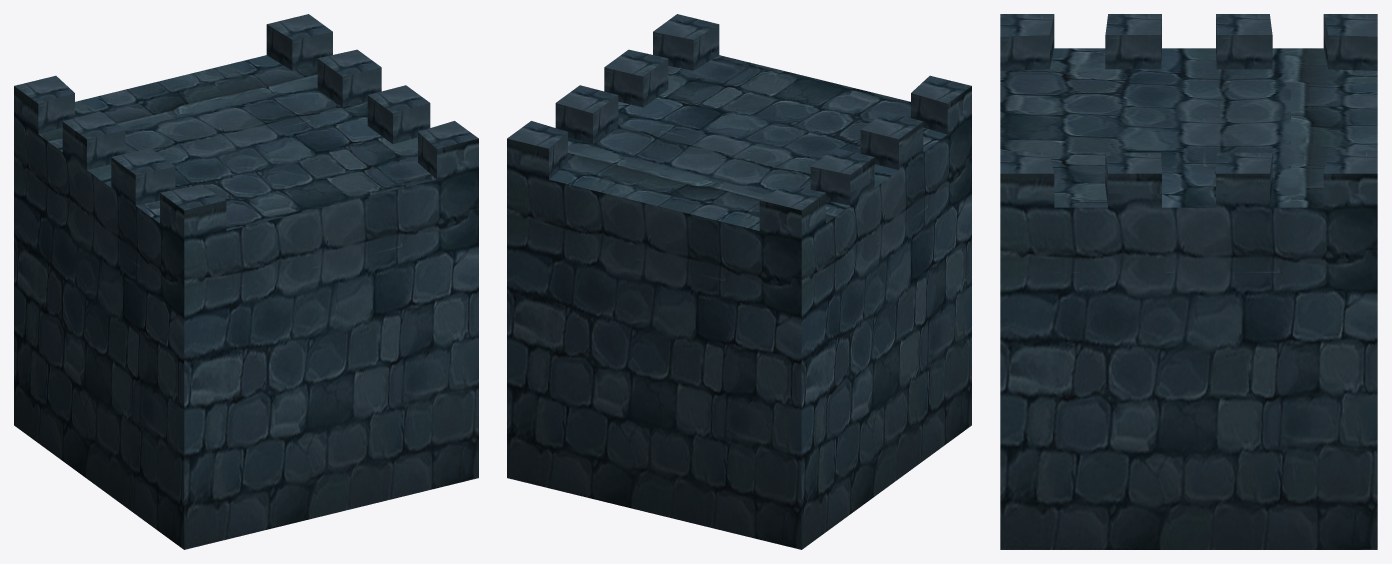
The model's file is wall.obj.
The picture shows the model from 3 angles, left to right: view 1: azimuth 30°, elevation 25°; view 2: azimuth 150°, elevation 25°; view 3: azimuth 270°, elevation 25°; orthographic projection. The views are drawn at different scales.
Parts seen in each view (by area): view 1: cube1; view 2: cube1; view 3: cube1.
Part boxes in pixels (x1,y1,x2,y2): cube1: (14,14,478,549); cube1: (507,14,971,549); cube1: (1000,14,1377,549).
Bounding box in the file's own units: 0.162 × 0.1783 × 0.162.
